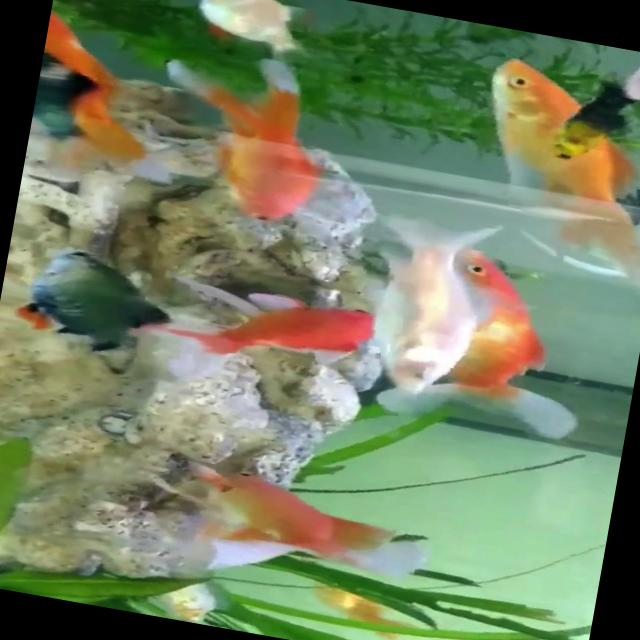GoldFish: (362, 232, 614, 460), (137, 36, 360, 231), (455, 50, 640, 272), (148, 259, 394, 404)
